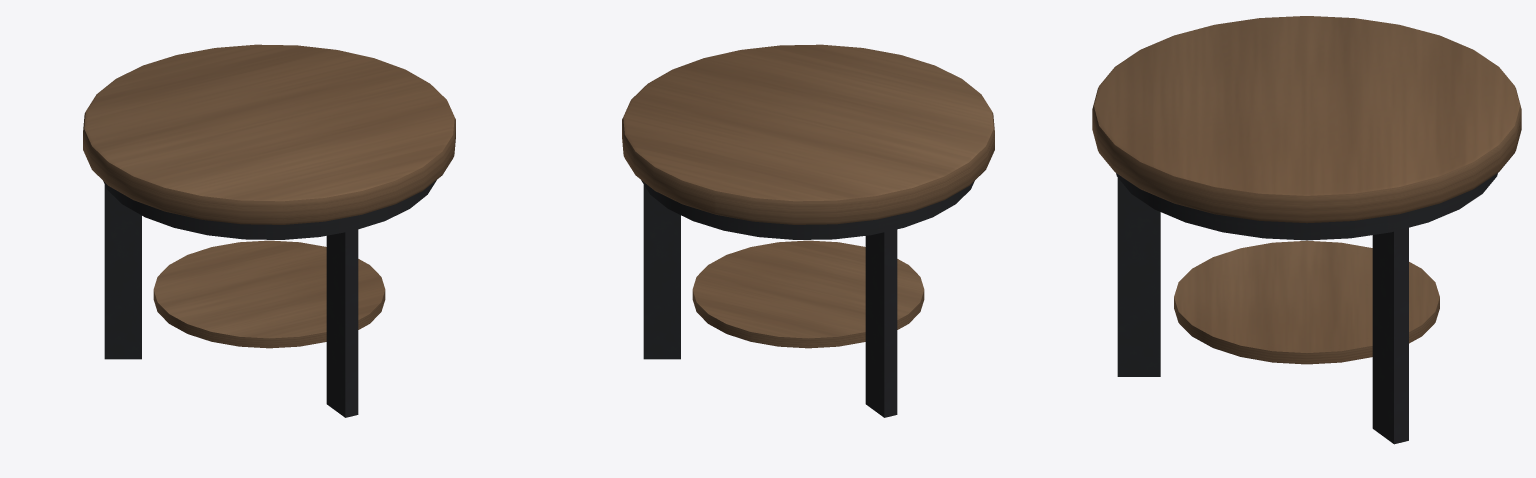
Rendered from lounge_side_table.glb.
3 views of the same model, side by side, from view 1: azimuth 30°, elevation 25°; view 2: azimuth 150°, elevation 25°; view 3: azimuth 270°, elevation 25° (orthographic). The views are drawn at different scales.
Visible parts, largest first — view 1: Top, Ring_Shelf, Leg_02, Leg_03, Band; view 2: Top, Ring_Shelf, Leg_01, Leg_02, Band; view 3: Top, Ring_Shelf, Leg_03, Leg_01, Band.
Part boxes in pixels (x1,y1,x2,y2): Top: [83, 44, 455, 224]; Ring_Shelf: [153, 240, 385, 348]; Leg_02: [104, 185, 141, 359]; Leg_03: [326, 229, 358, 417]; Band: [103, 180, 436, 239]; Top: [622, 44, 994, 224]; Ring_Shelf: [692, 240, 924, 348]; Leg_01: [643, 185, 680, 359]; Leg_02: [865, 229, 897, 417]; Band: [641, 180, 974, 239]; Top: [1092, 16, 1521, 223]; Ring_Shelf: [1174, 240, 1439, 364]; Leg_03: [1117, 178, 1160, 376]; Leg_01: [1372, 227, 1408, 444]; Band: [1116, 173, 1497, 240].
Size of the model in its own units: 0.55 by 0.38 by 0.55.
Materials: 3 (2 with a texture image).
